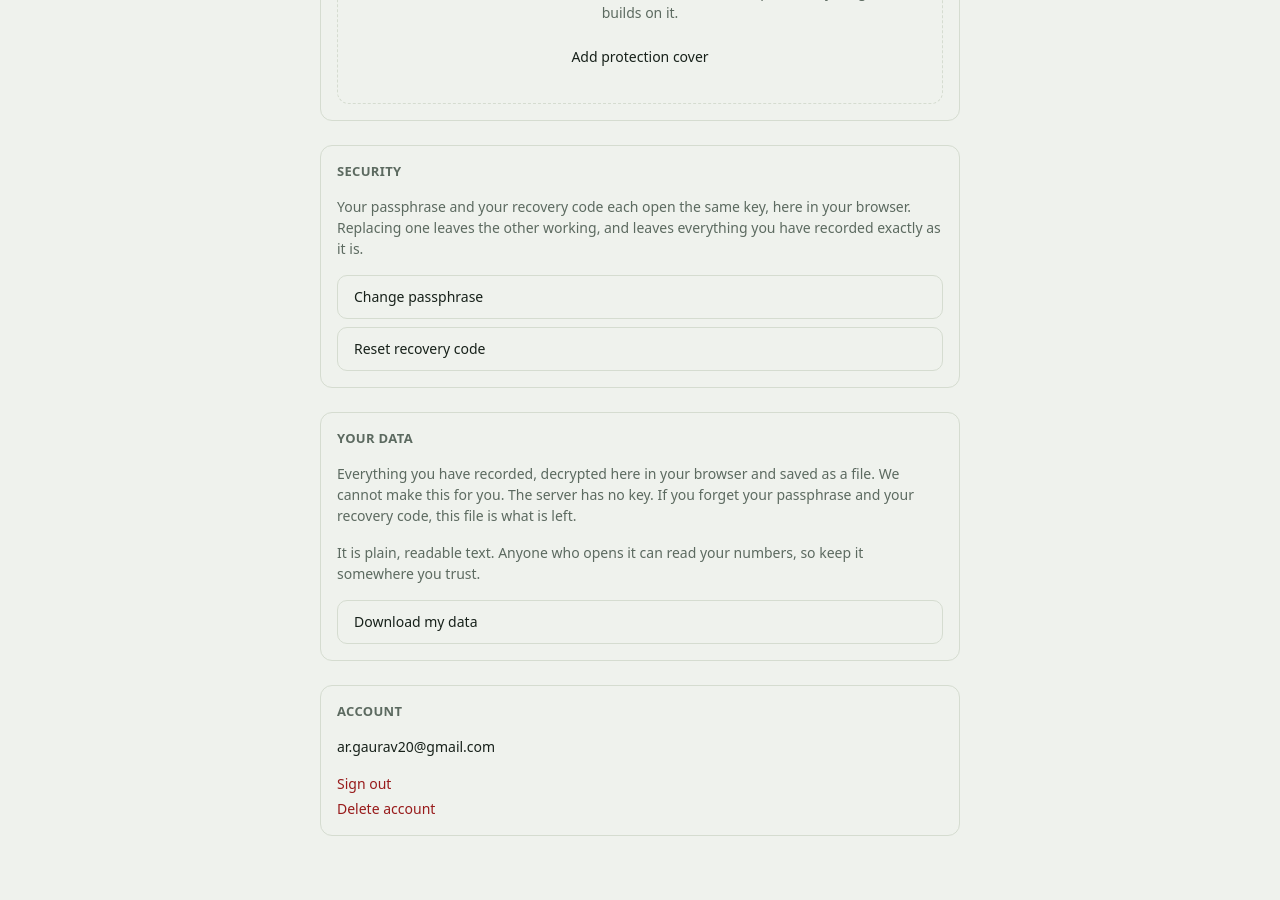
Scenario: Profile › shows an inline error and does not sign the user out if account deletion fails
(page scrolled)
Click the button "Delete account": (386, 809) [337,798,435,819]
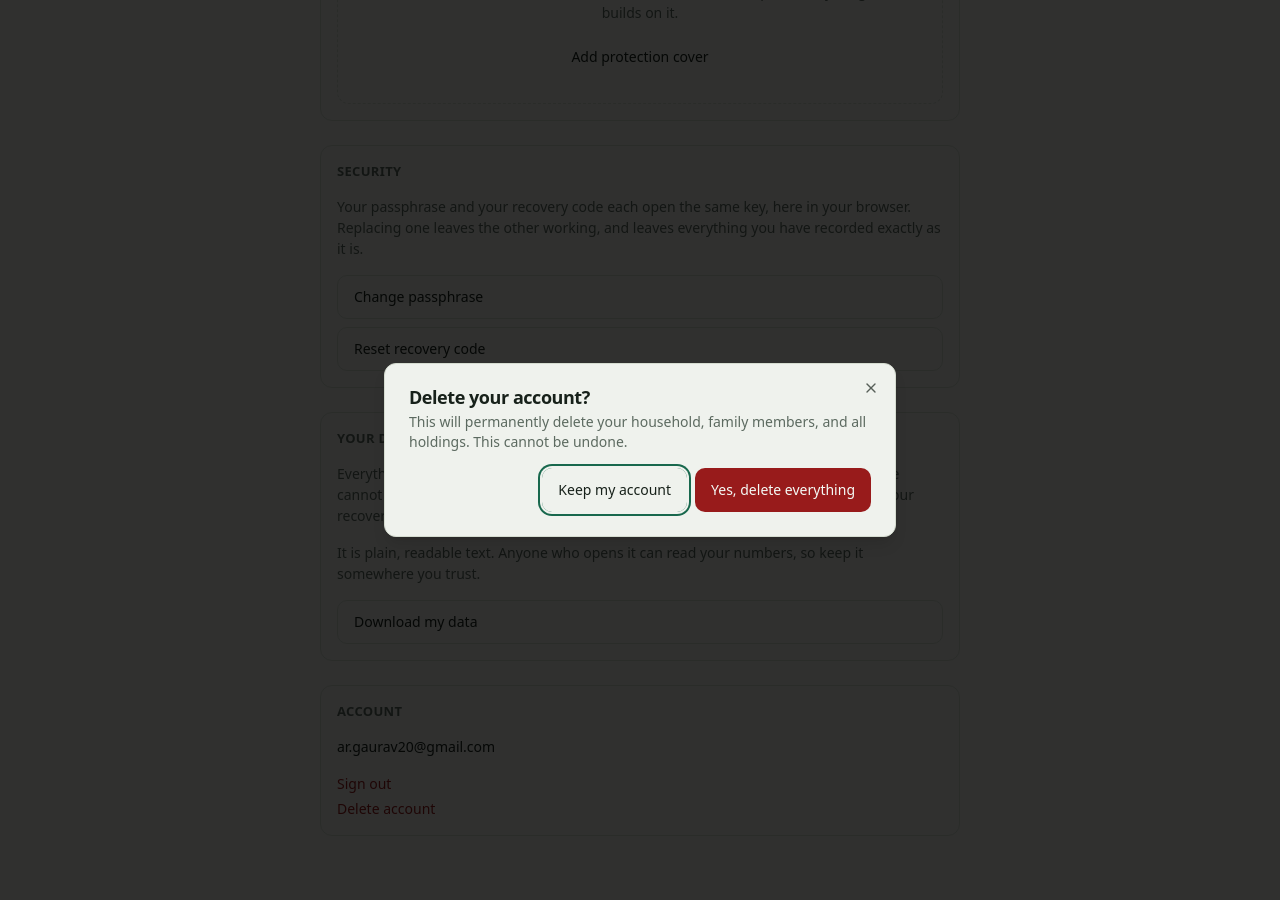
Expected: the heading "Delete your account?" is shown, [409,385,590,409]
Click the button "Yes, delete everything": (783, 490) [695,468,871,512]
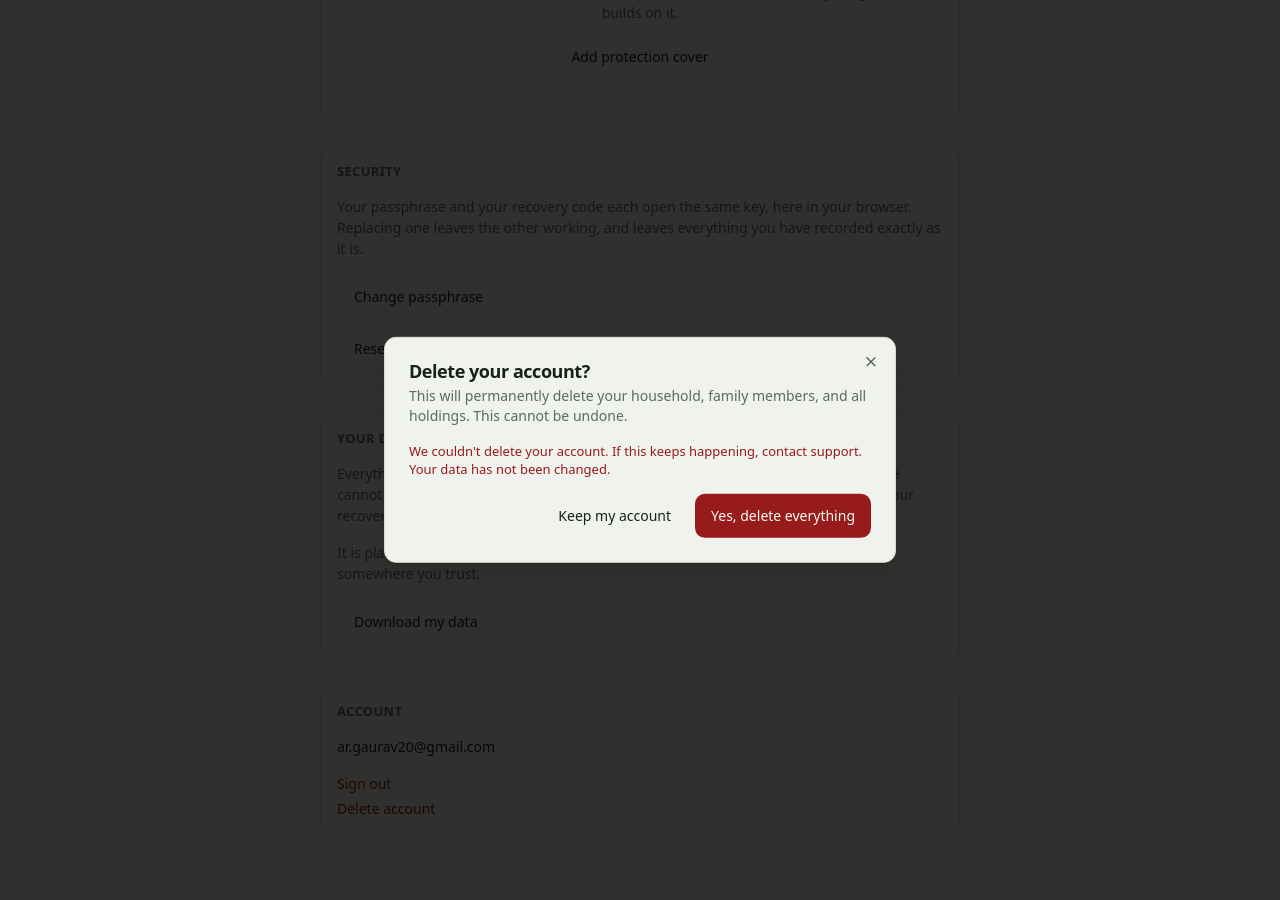
Expected: the text "We couldn't delete your account" is shown, [409,442,862,478]
